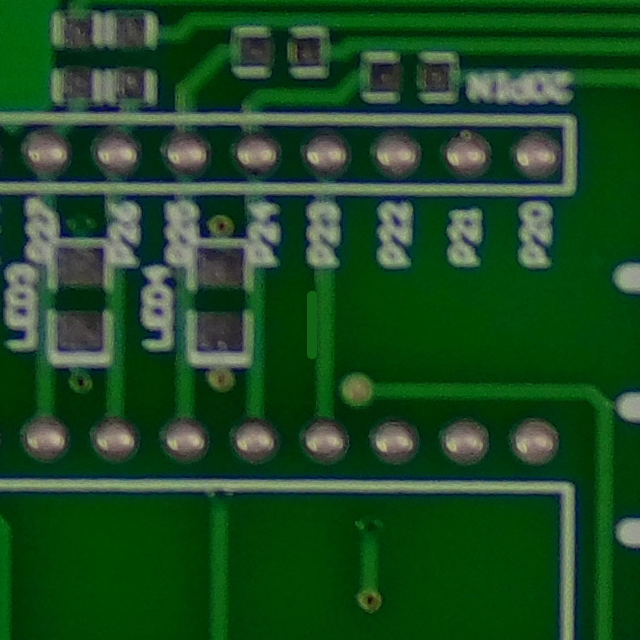spur: (292, 280, 349, 361)
